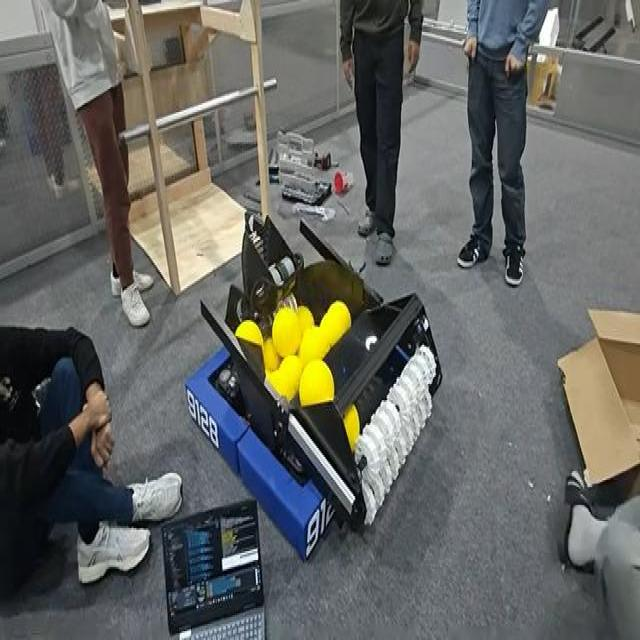Fuel: (299, 359, 334, 405), (272, 308, 301, 358), (321, 300, 350, 345), (298, 327, 330, 366), (279, 356, 302, 394), (320, 311, 344, 345), (267, 370, 294, 400), (267, 369, 292, 400), (343, 406, 360, 451), (235, 320, 262, 347), (343, 405, 359, 450), (327, 300, 351, 330), (263, 338, 280, 370), (262, 336, 278, 369), (296, 305, 313, 333), (297, 306, 314, 332)
